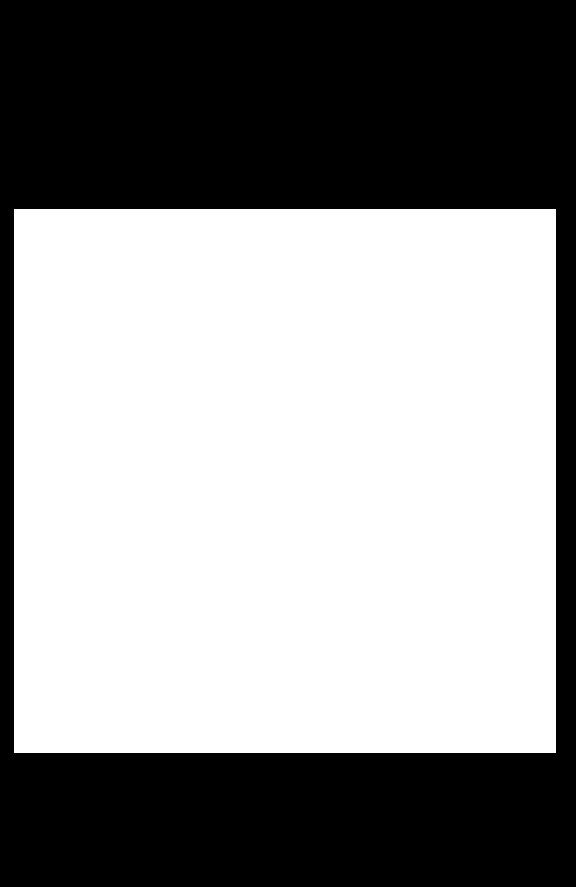table: (14, 209, 555, 752)
